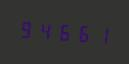four: (36, 18, 53, 43)
nine: (18, 16, 35, 41)
one: (90, 21, 107, 46)
six: (54, 19, 71, 44), (72, 20, 89, 45)
